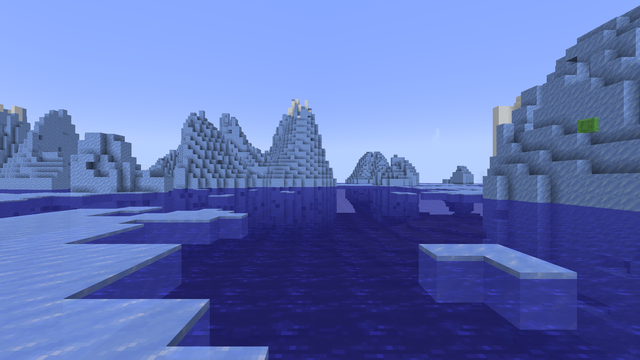slimes: (576, 116, 598, 132)
